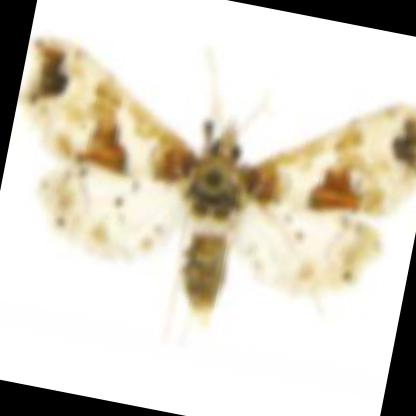leucinodes: (22, 39, 416, 327)
